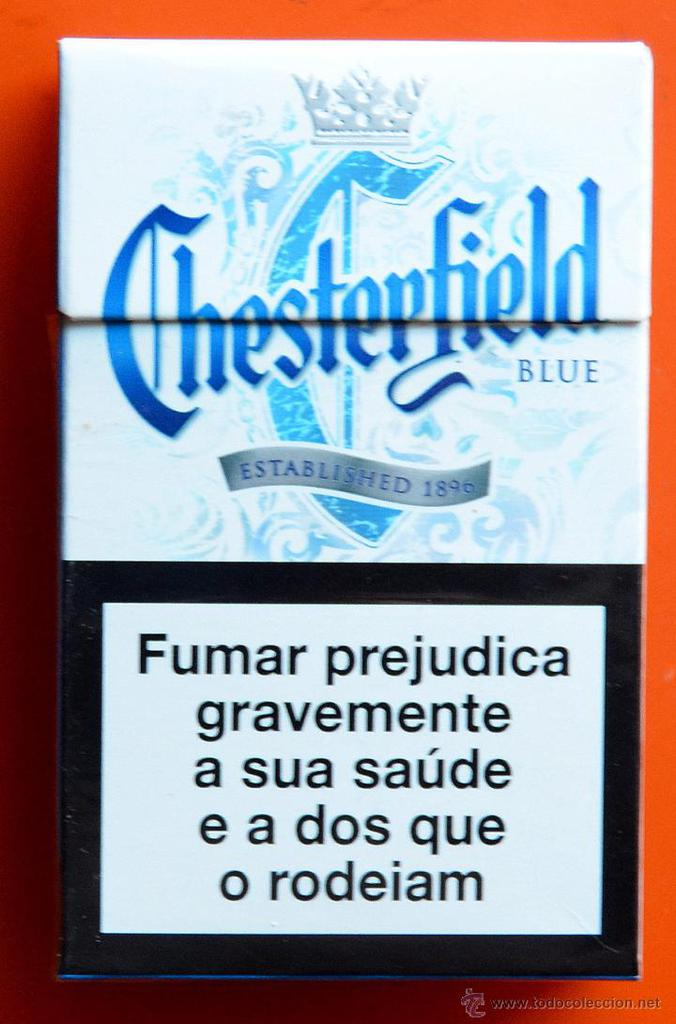chesterfield_blue: (62, 42, 639, 979)
